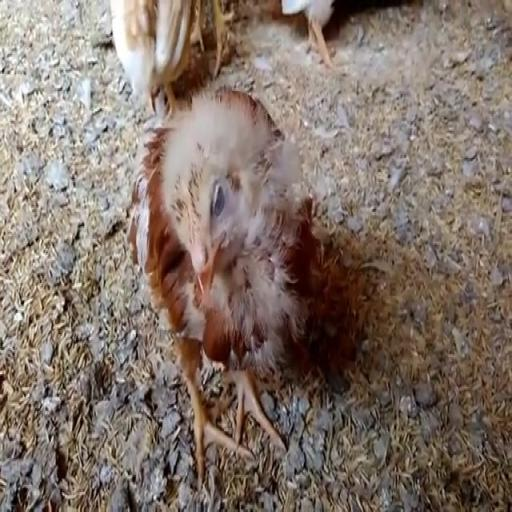disease: (205, 163, 231, 256)
